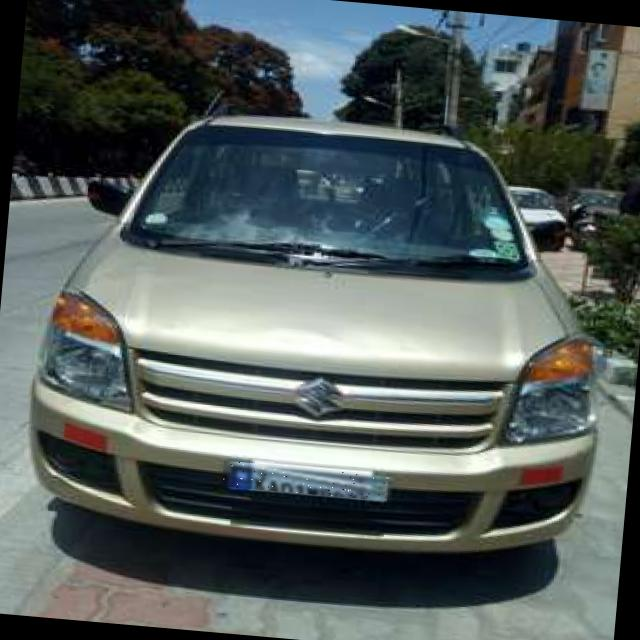Plate: (222, 461, 387, 501)
